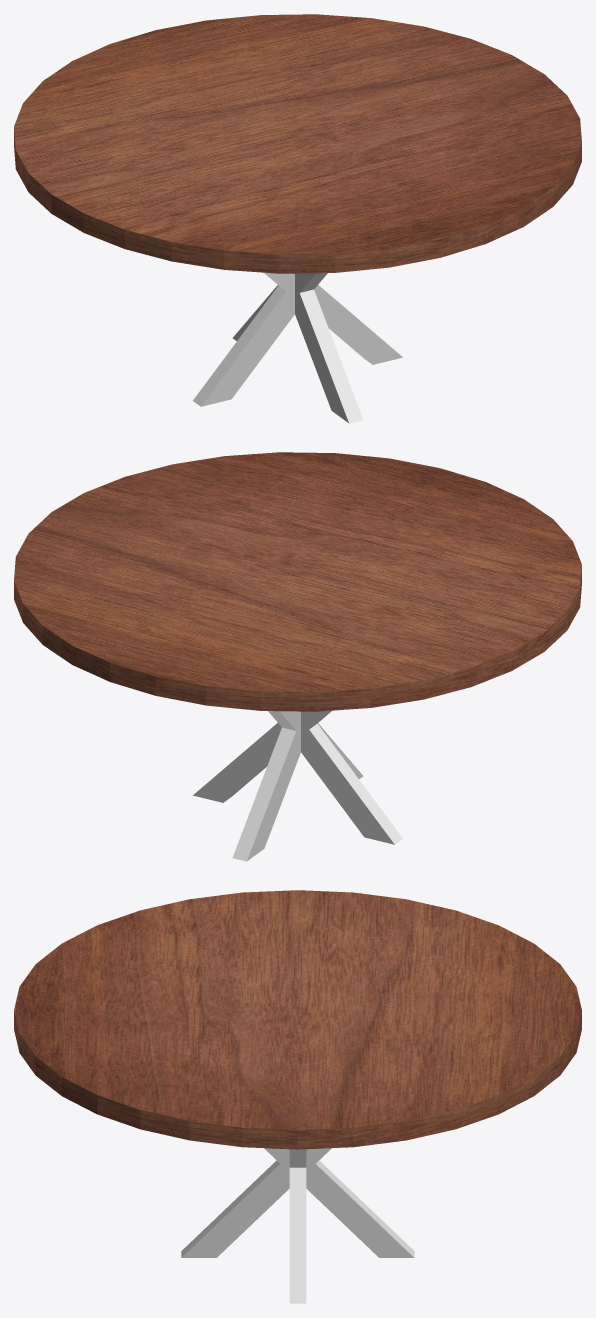
The model's file is Round_Table.fbx.
3 renders of one model, top to bottom at view 1: azimuth 30°, elevation 25°; view 2: azimuth 150°, elevation 25°; view 3: azimuth 270°, elevation 25°, orthographic.
Visible parts, largest first — view 1: Top, Bottom; view 2: Top, Bottom; view 3: Top, Bottom.
Boxes of the visible parts, bbox=[...] form: Top: bbox=[14, 14, 581, 273]; Bottom: bbox=[193, 272, 402, 423]; Top: bbox=[14, 452, 581, 711]; Bottom: bbox=[193, 710, 402, 861]; Top: bbox=[14, 890, 581, 1149]; Bottom: bbox=[181, 1148, 414, 1303].
Bounding box in the file's own units: 200 × 94.93 × 200.
